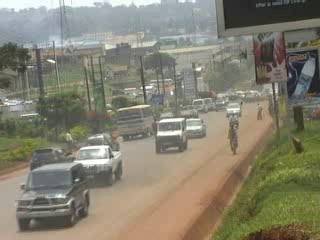Car: (13, 157, 90, 230), (26, 144, 77, 178), (154, 113, 188, 153), (84, 132, 121, 153), (184, 114, 208, 140), (223, 102, 242, 118), (158, 108, 178, 121)
Motorcycle: (228, 112, 240, 134), (150, 116, 159, 139)
